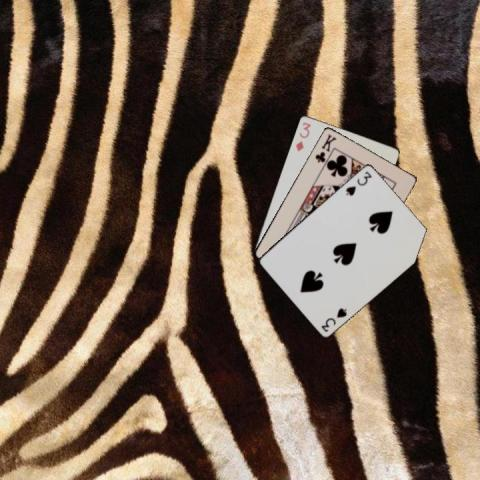3d: (293, 119, 312, 153)
3s: (342, 168, 372, 197), (318, 304, 348, 332)
Kc: (312, 132, 337, 164)
